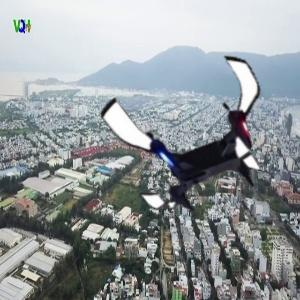drone: (111, 46, 286, 221)
